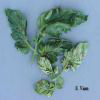Tomato leaf bacterial spot: (36, 6, 90, 39), (5, 10, 31, 52), (63, 40, 91, 71), (37, 56, 54, 77)
